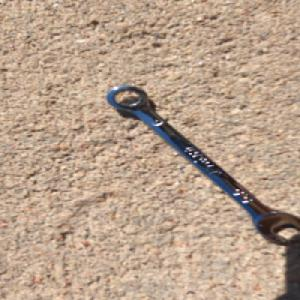Wrench: (103, 84, 300, 244)
